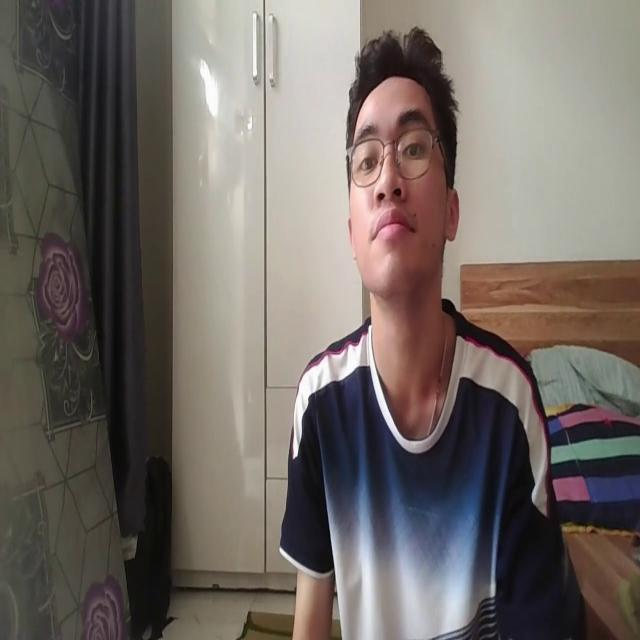student: (279, 15, 562, 640)
